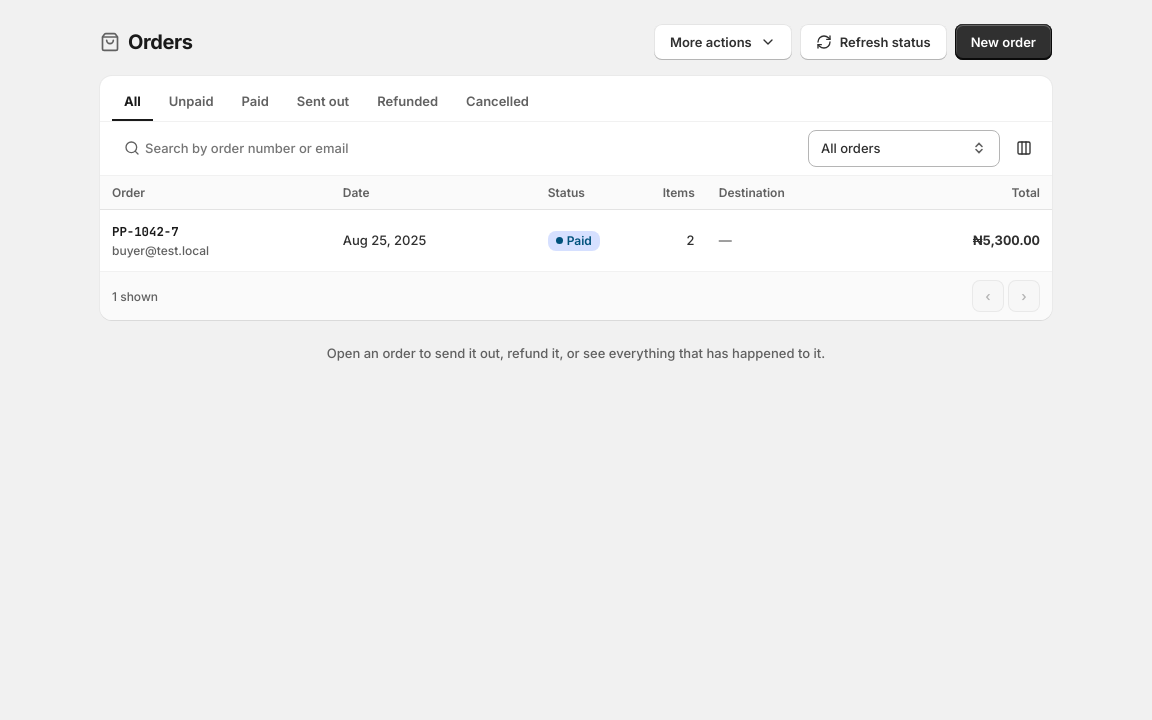
the Refresh status button › runs the sweep, names what it found, and reloads the list
Click the button "Refresh status" at point(873, 42), box [800,24,947,60]
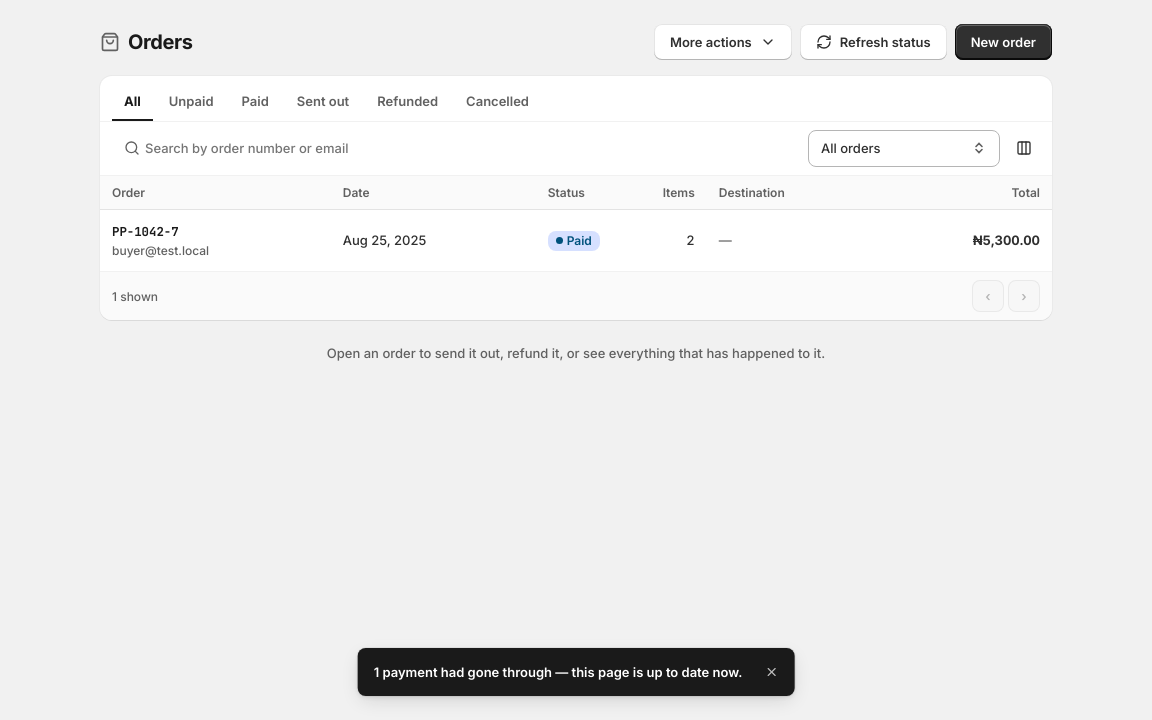
Result: the text "1 payment had gone through — this page is up to date now." is shown at [374,663,742,681]
